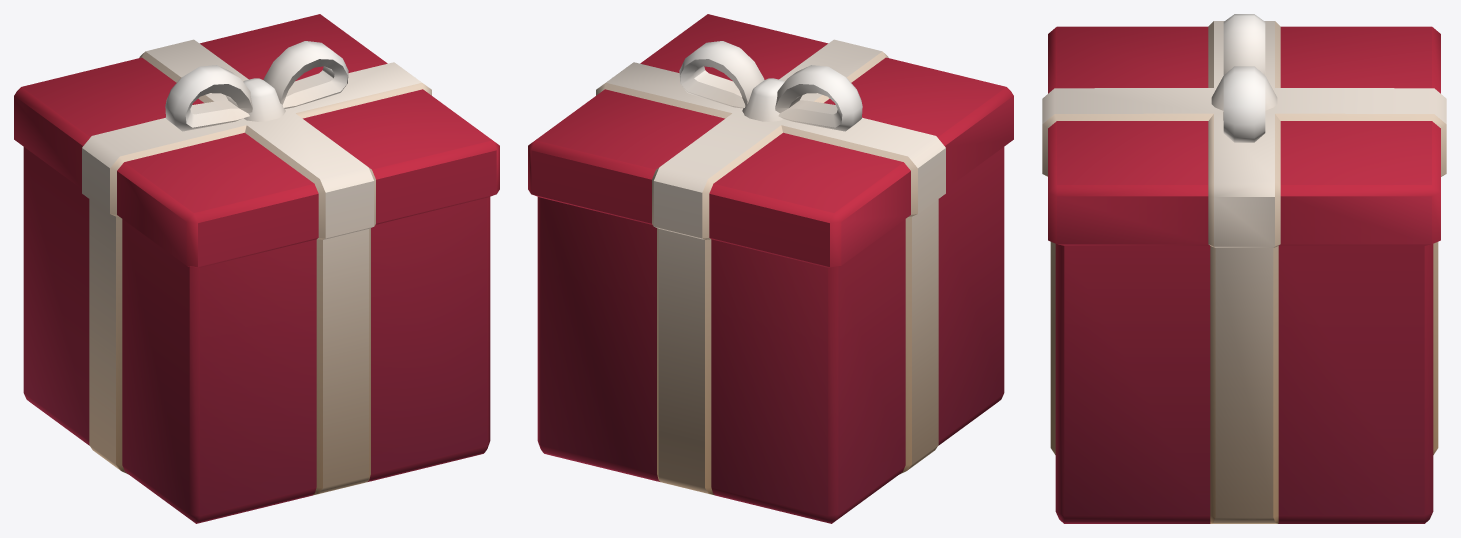
File: red_box.glb
3 views of the same model, side by side, from view 1: azimuth 30°, elevation 25°; view 2: azimuth 150°, elevation 25°; view 3: azimuth 270°, elevation 25° (orthographic). The views are drawn at different scales.
Visible parts, largest first — view 1: present_D_red; view 2: present_D_red; view 3: present_D_red.
Part boxes in pixels (bbox=[...]): present_D_red: bbox=[14, 14, 499, 523]; present_D_red: bbox=[528, 14, 1013, 523]; present_D_red: bbox=[1042, 14, 1446, 523].
Size of the model in its own units: 0.9638 by 1.06 by 0.9638.
Materials: 1 (1 with a texture image).
